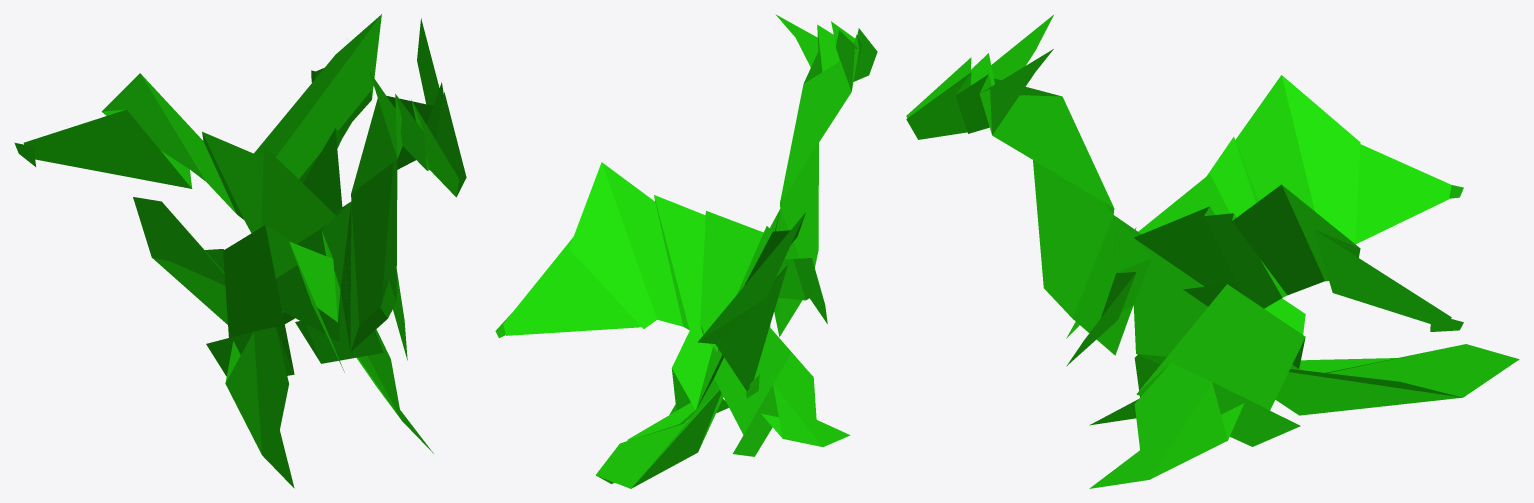
Rendered from dragons3.fbx.
The picture shows the model from 3 angles, left to right: view 1: azimuth 30°, elevation 25°; view 2: azimuth 150°, elevation 25°; view 3: azimuth 270°, elevation 25°; orthographic projection. The views are drawn at different scales.
Parts seen in each view (by area): view 1: Plane; view 2: Plane; view 3: Plane.
Part boxes in pixels (<box>): Plane: <box>14,14,466,488</box>; Plane: <box>495,14,877,488</box>; Plane: <box>906,15,1519,488</box>.
Size of the model in its own units: 148 by 218 by 284.
